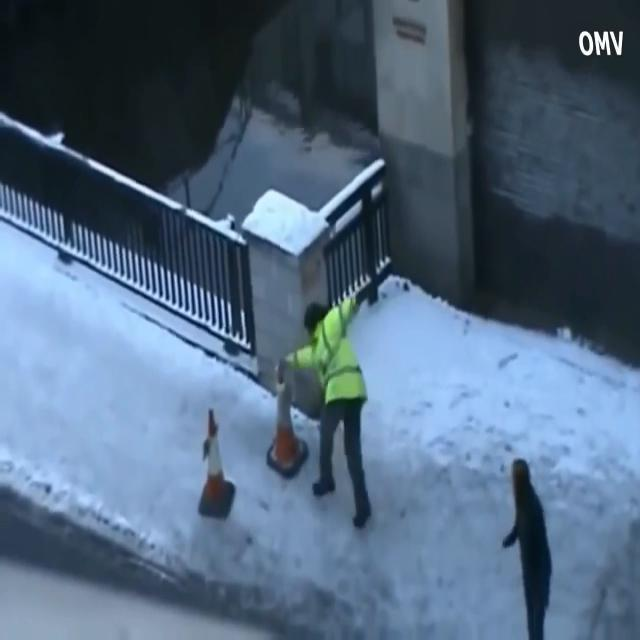fall: (285, 286, 368, 520)
